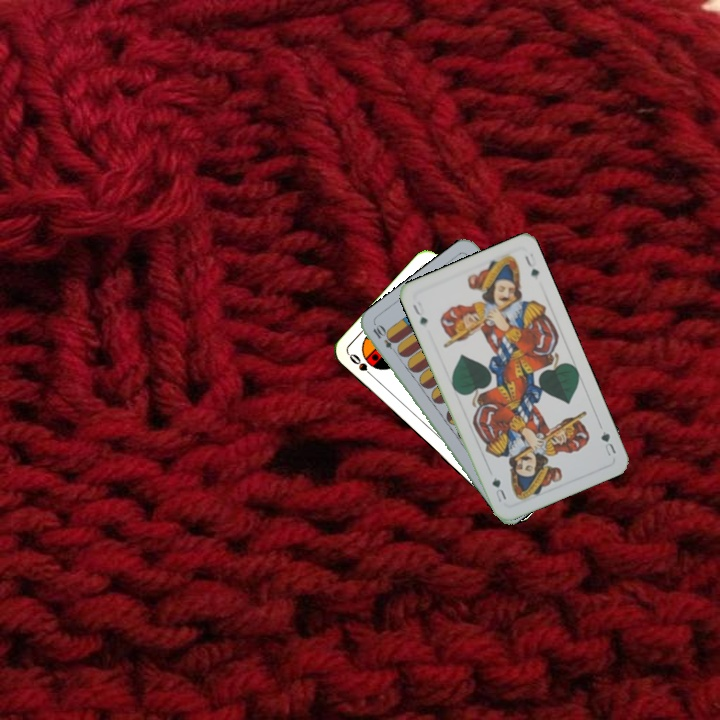E10: (369, 321, 401, 357)
GU: (596, 427, 619, 459), (409, 300, 430, 328)
SO: (345, 349, 378, 381)
